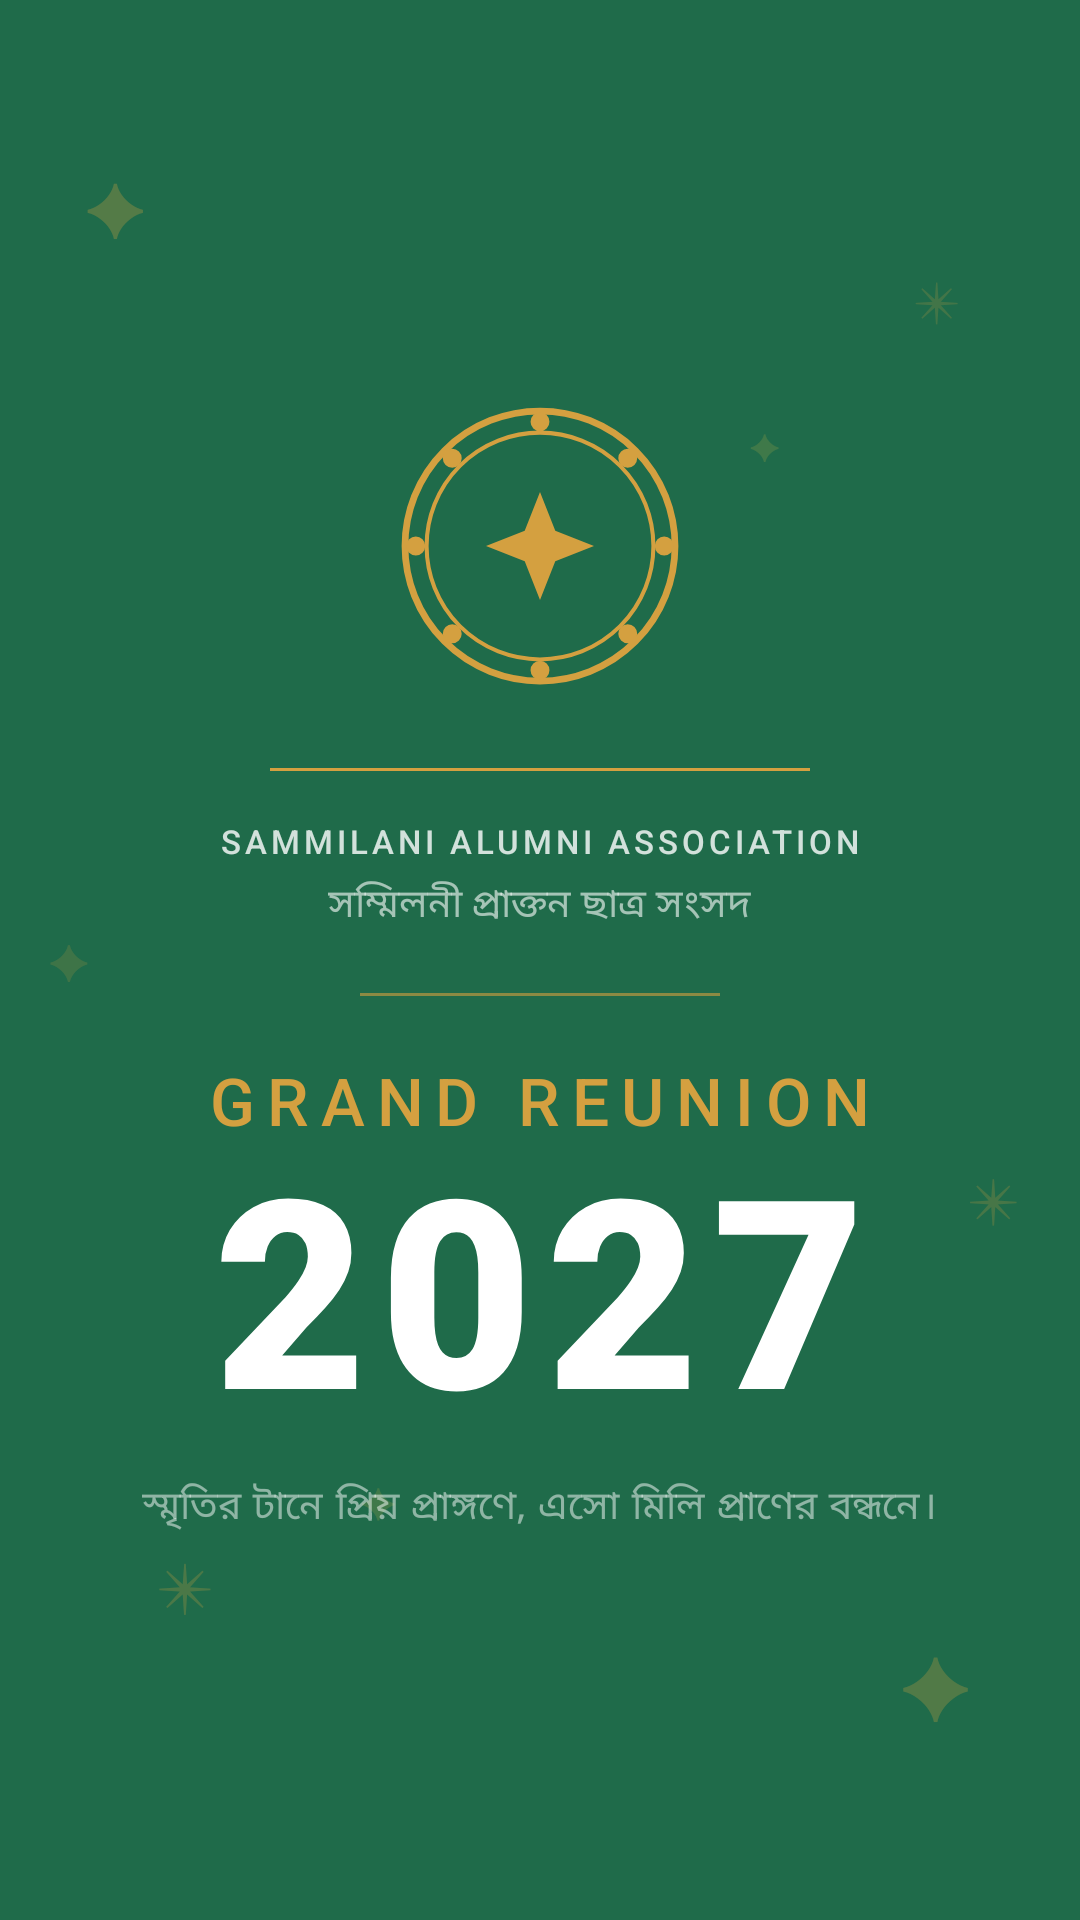

Where to tap for icons on this 1080w x 1920h app screen, as (x=x, y=y):
reunion emblem: (x=540, y=546)
